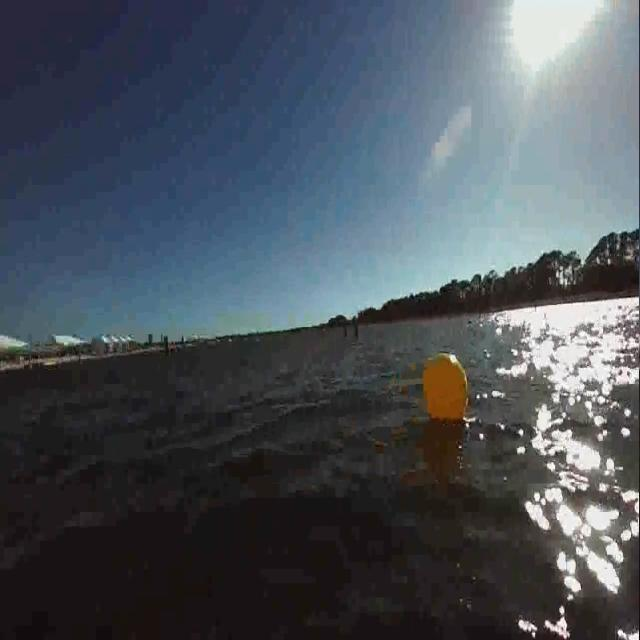yellow-buoy: (424, 350, 471, 426)
